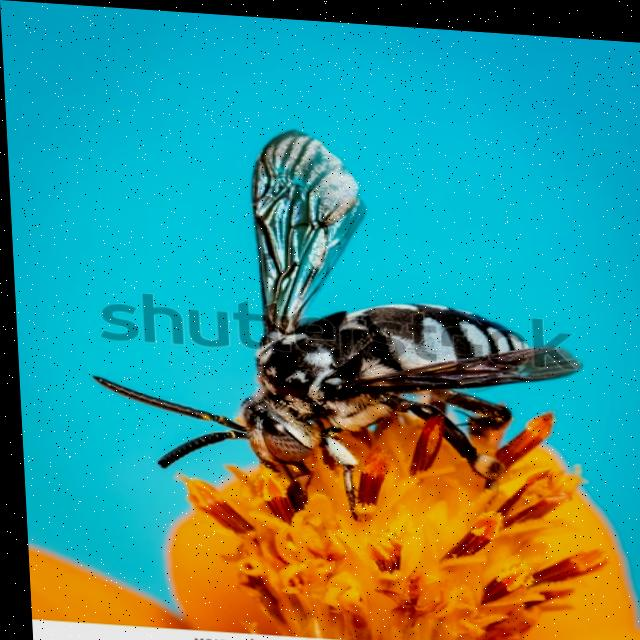Thyreus: (69, 106, 592, 514)
